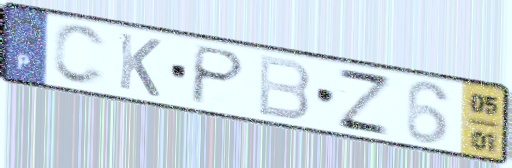6: (402, 79, 455, 147)
B: (255, 52, 313, 123)
C: (49, 22, 110, 89)
K: (116, 30, 164, 101)
P: (187, 42, 249, 107)
Z: (334, 65, 396, 139)
